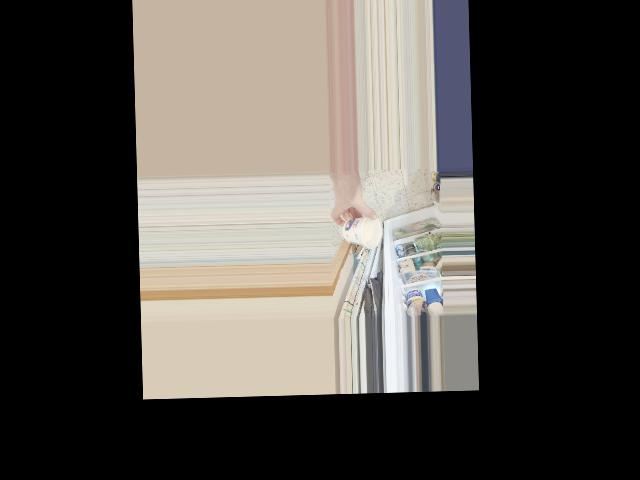cotage: (343, 214, 385, 248)
